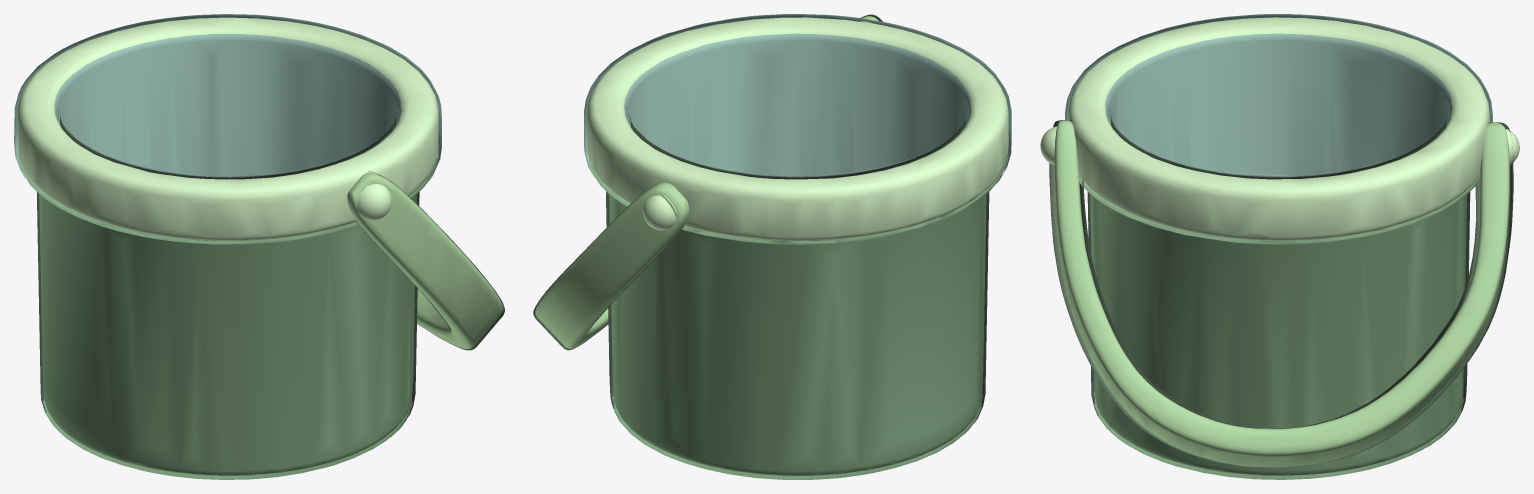
Rendered from balde.glb.
3 views of the same model, side by side, from view 1: azimuth 30°, elevation 25°; view 2: azimuth 150°, elevation 25°; view 3: azimuth 270°, elevation 25° (orthographic).
Visible parts, largest first — view 1: Cylinder.004_Cylinder.005_shadow, Cylinder.004_Cylinder.005_inside, Cylinder.004_Cylinder.005_green_light, Cube_Cube_bucket, Cylinder.004_Cylinder.005_contour, Cube.002_Cube.005, Cube_Cube_contour, Cylinder.004_Cylinder.005_bucket; view 2: Cylinder.004_Cylinder.005_shadow, Cylinder.004_Cylinder.005_inside, Cylinder.004_Cylinder.005_green_light, Cube_Cube_bucket, Cylinder.004_Cylinder.005_contour, Cube.001_Cube.003_green_light, Cube_Cube_contour, Cylinder.004_Cylinder.005_bucket; view 3: Cylinder.004_Cylinder.005_shadow, Cylinder.004_Cylinder.005_inside, Cylinder.004_Cylinder.005_green_light, Cube_Cube_bucket, Cube_Cube_contour, Cylinder.004_Cylinder.005_contour, Cylinder.004_Cylinder.005_bucket.
Boxes of the visible parts, x1=… form: Cylinder.004_Cylinder.005_shadow: x1=18, y1=106, x2=437, y2=479; Cylinder.004_Cylinder.005_inside: x1=14, y1=14, x2=441, y2=180; Cylinder.004_Cylinder.005_green_light: x1=17, y1=17, x2=438, y2=240; Cube_Cube_bucket: x1=347, y1=172, x2=502, y2=348; Cylinder.004_Cylinder.005_contour: x1=36, y1=115, x2=419, y2=425; Cube.002_Cube.005: x1=357, y1=184, x2=391, y2=220; Cube_Cube_contour: x1=357, y1=171, x2=504, y2=350; Cylinder.004_Cylinder.005_bucket: x1=67, y1=226, x2=388, y2=476; Cylinder.004_Cylinder.005_shadow: x1=588, y1=107, x2=1007, y2=479; Cylinder.004_Cylinder.005_inside: x1=584, y1=14, x2=1011, y2=189; Cylinder.004_Cylinder.005_green_light: x1=586, y1=17, x2=1008, y2=240; Cube_Cube_bucket: x1=535, y1=16, x2=878, y2=348; Cylinder.004_Cylinder.005_contour: x1=606, y1=114, x2=989, y2=420; Cube.001_Cube.003_green_light: x1=642, y1=195, x2=676, y2=230; Cube_Cube_contour: x1=533, y1=14, x2=882, y2=350; Cylinder.004_Cylinder.005_bucket: x1=634, y1=205, x2=963, y2=476; Cylinder.004_Cylinder.005_shadow: x1=1079, y1=107, x2=1479, y2=479; Cylinder.004_Cylinder.005_inside: x1=1065, y1=14, x2=1492, y2=183; Cylinder.004_Cylinder.005_green_light: x1=1068, y1=17, x2=1489, y2=240; Cube_Cube_bucket: x1=1053, y1=120, x2=1509, y2=467; Cube_Cube_contour: x1=1049, y1=120, x2=1513, y2=467; Cylinder.004_Cylinder.005_contour: x1=1087, y1=114, x2=1470, y2=421; Cylinder.004_Cylinder.005_bucket: x1=1111, y1=209, x2=1442, y2=476.
Bounding box in the file's own units: 3.59 × 2.54 × 3.6.
